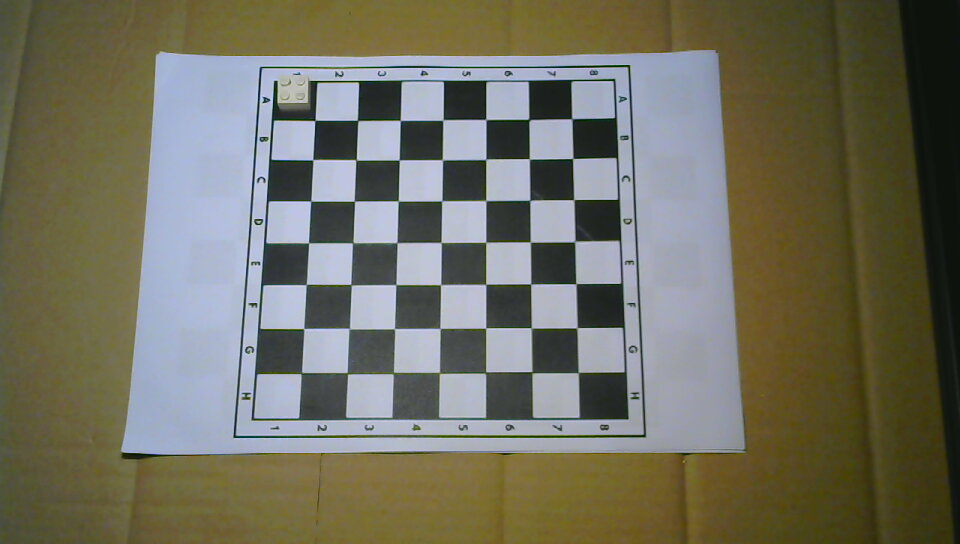wp: (276, 73, 313, 113)
